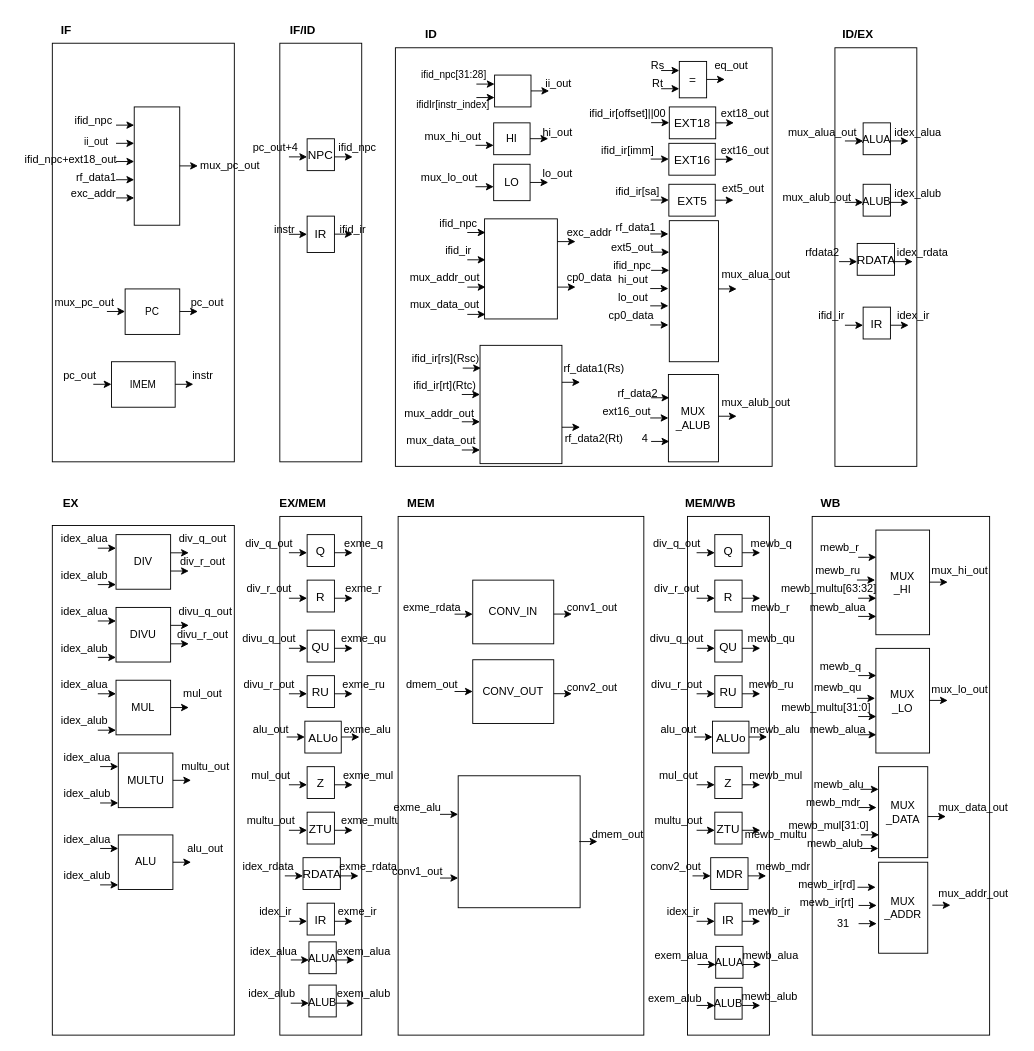
Some shapes in this 1034 by 1051 pixel diagram are drawn without their labels. Here are the shapes that lost their labels. From the top down, the centre of each, then its label:
the point at 512,90: II
the point at 156,165: MUX_PC
the point at 520,268: CP0
the point at 693,291: MUX _ALUA
the point at 520,404: RegFile
the point at 518,841: DMEM
